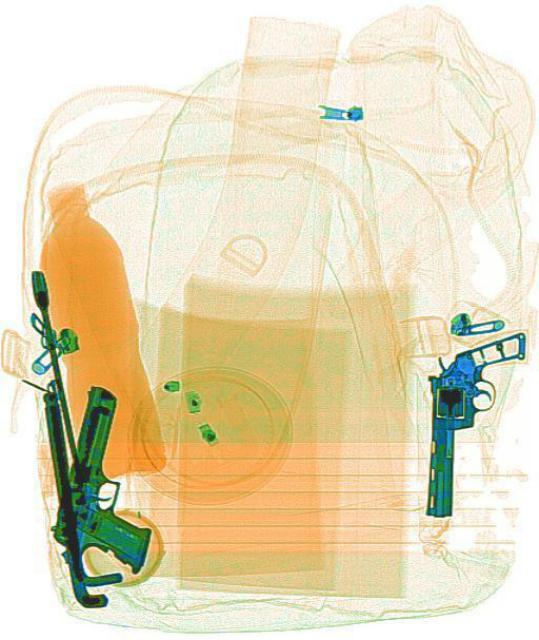Gun: (43, 383, 182, 581), (422, 326, 523, 518)
